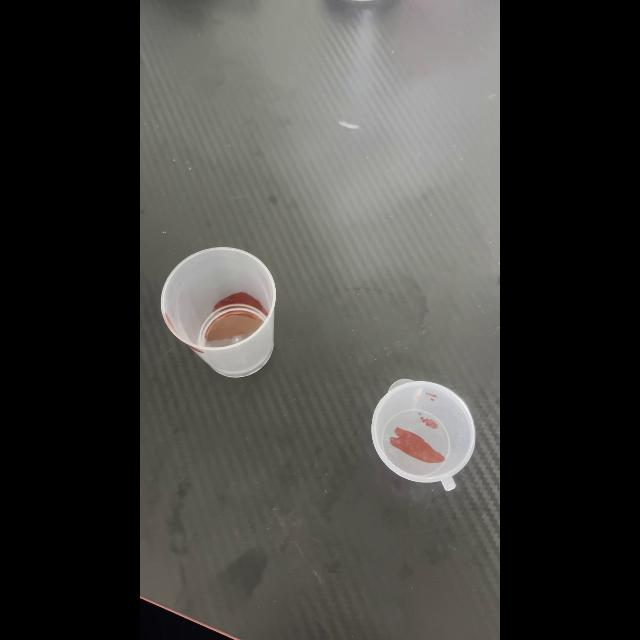dirty: (159, 248, 277, 376), (371, 380, 477, 488)
